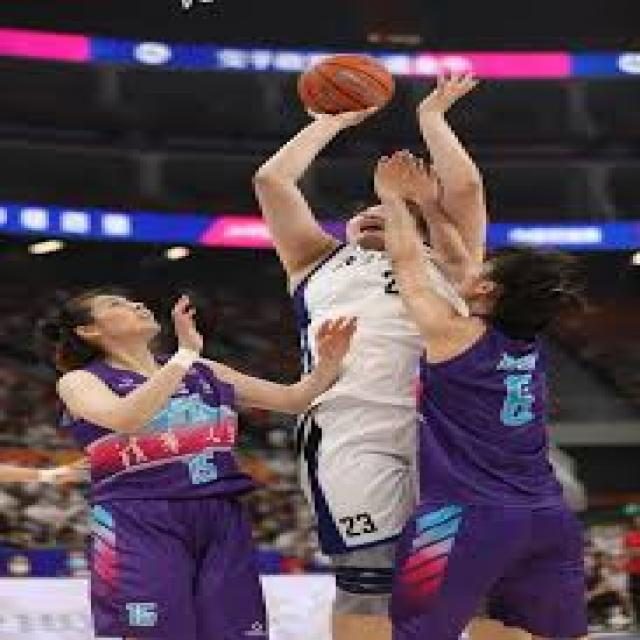rim: (290, 56, 399, 119)
